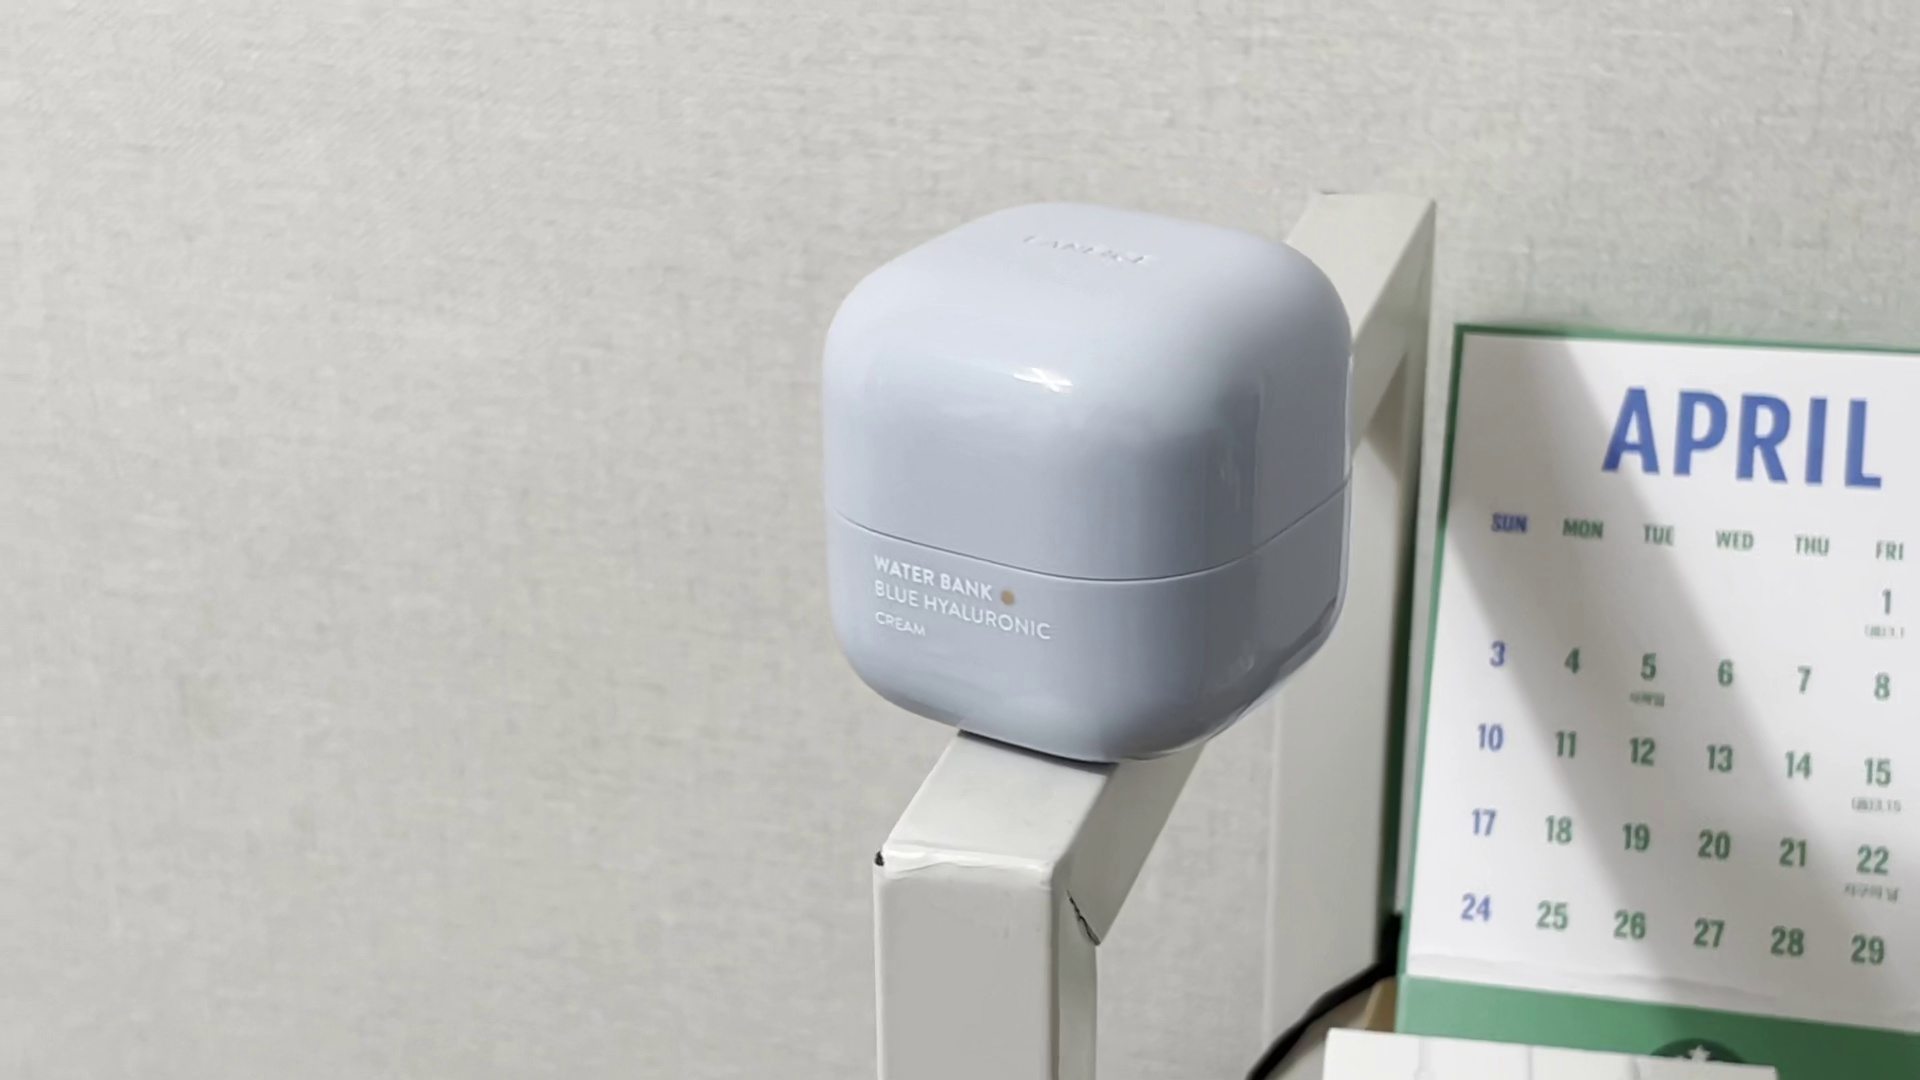cream: (820, 203, 1360, 766)
